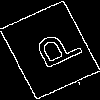P: (25, 25, 85, 76)
